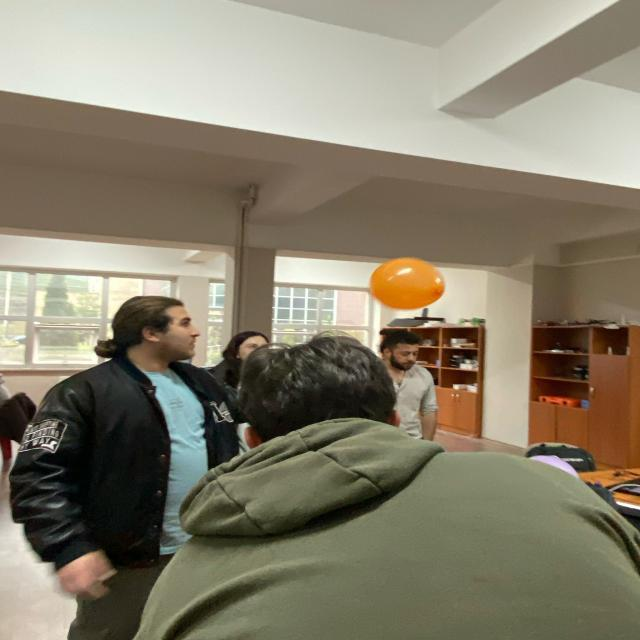balloon: (368, 258, 444, 308)
